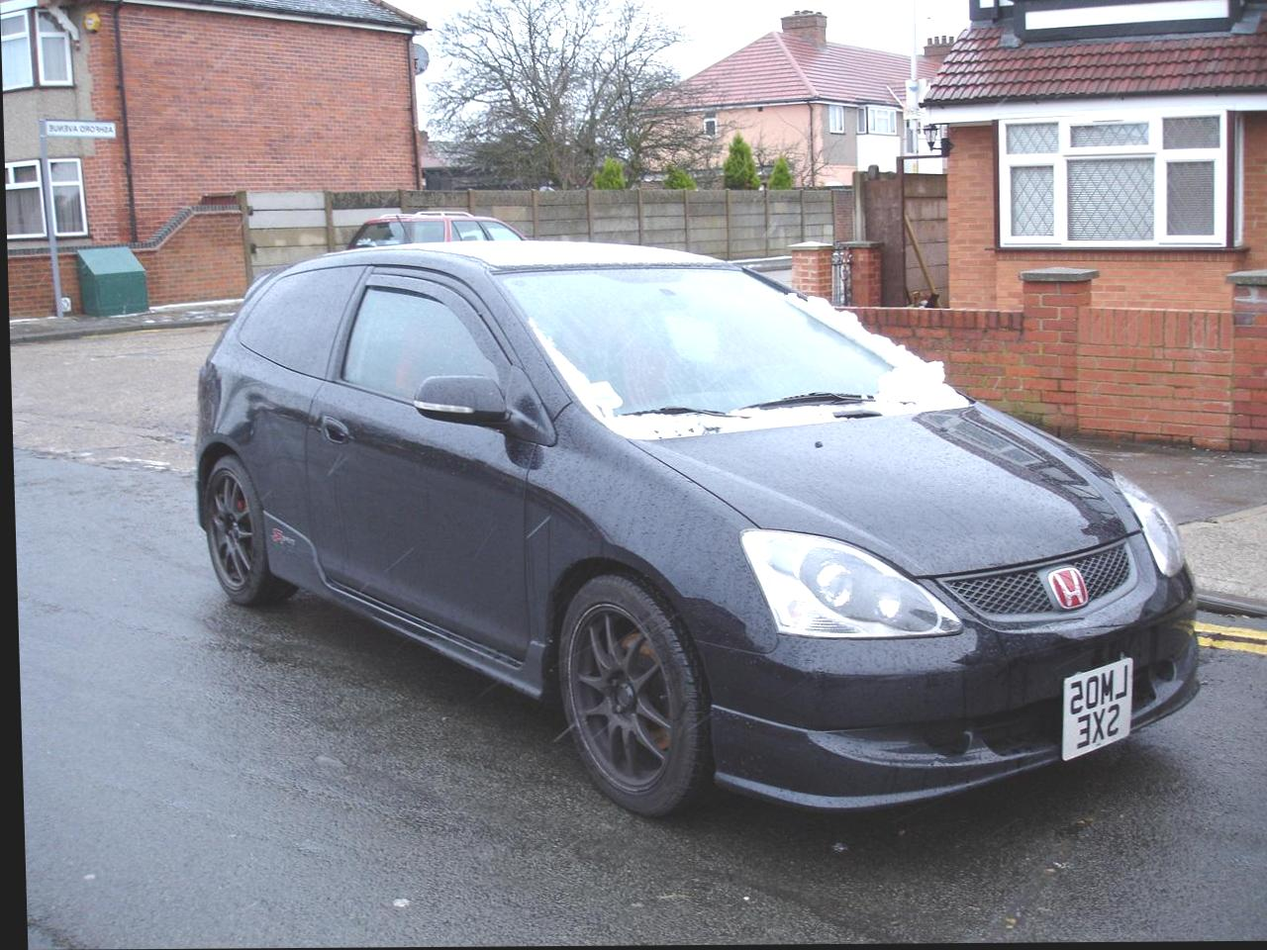License_Plate: (1050, 648, 1145, 764)
